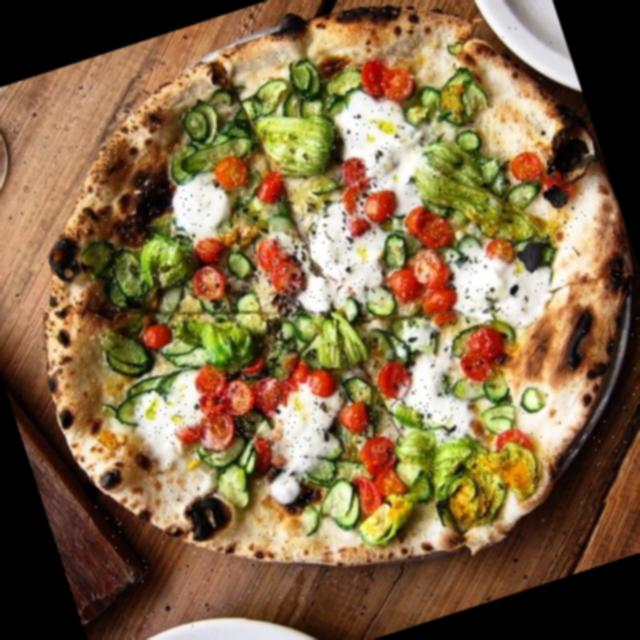Broccoli: (197, 67, 346, 196), (406, 424, 526, 528), (167, 283, 276, 381), (288, 296, 390, 388), (421, 140, 511, 226), (102, 224, 190, 304), (310, 462, 384, 538)
Cheese: (291, 217, 392, 320), (338, 101, 422, 188), (454, 245, 536, 334), (268, 404, 344, 482), (172, 174, 246, 243), (408, 369, 474, 440), (136, 394, 202, 456)
Pizza: (0, 0, 640, 640)
Tomatoes: (182, 364, 274, 449), (333, 428, 418, 511), (384, 242, 464, 330), (349, 41, 422, 109), (244, 232, 306, 306), (337, 164, 397, 236), (402, 193, 458, 257), (454, 324, 508, 385), (183, 256, 240, 312), (266, 353, 329, 403), (511, 142, 563, 200), (208, 154, 254, 195), (254, 167, 292, 210), (134, 316, 176, 352), (378, 362, 414, 402), (339, 400, 377, 434), (191, 235, 228, 261)
